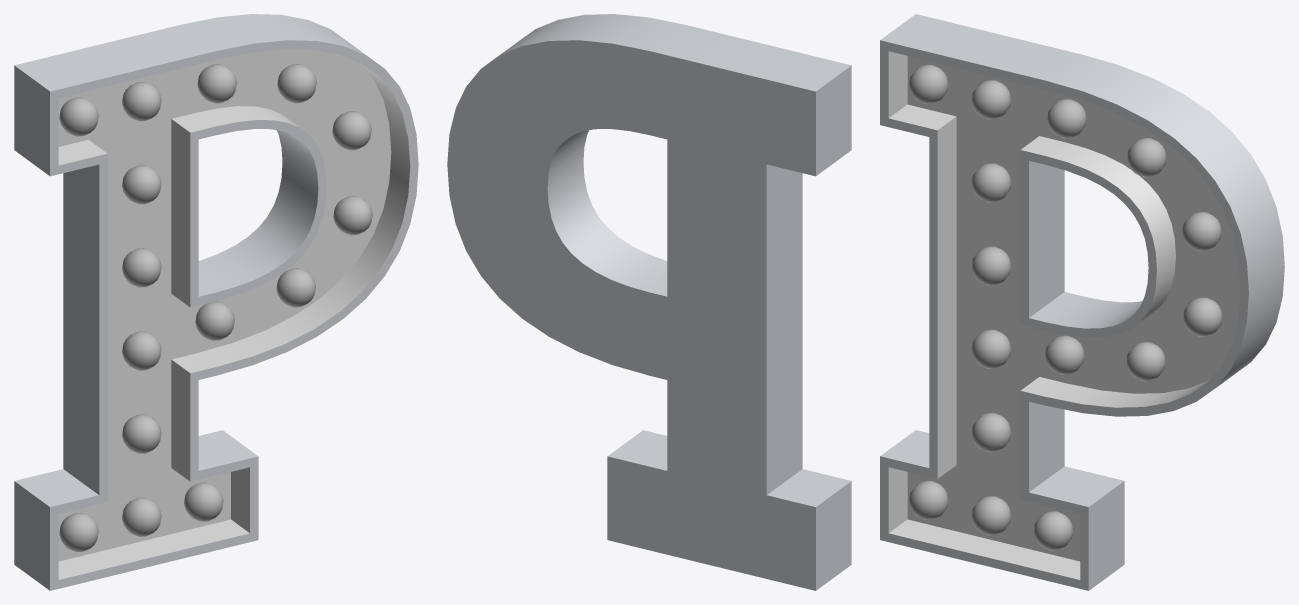
Rendered from LettersBulb01_P.FBX.
The picture shows the model from 3 angles, left to right: view 1: azimuth 30°, elevation 25°; view 2: azimuth 150°, elevation 25°; view 3: azimuth 330°, elevation 25°; orthographic projection.
Parts seen in each view (by area): view 1: LettersBulb01_P; view 2: LettersBulb01_P; view 3: LettersBulb01_P.
Boxes of the visible parts, left/top/right/bottom form: LettersBulb01_P: left=14, top=14, right=418, bottom=590; LettersBulb01_P: left=447, top=14, right=851, bottom=590; LettersBulb01_P: left=880, top=14, right=1284, bottom=590.
Size of what is drawn, in the model's own units: 0.9232 by 1.2 by 0.1563.
